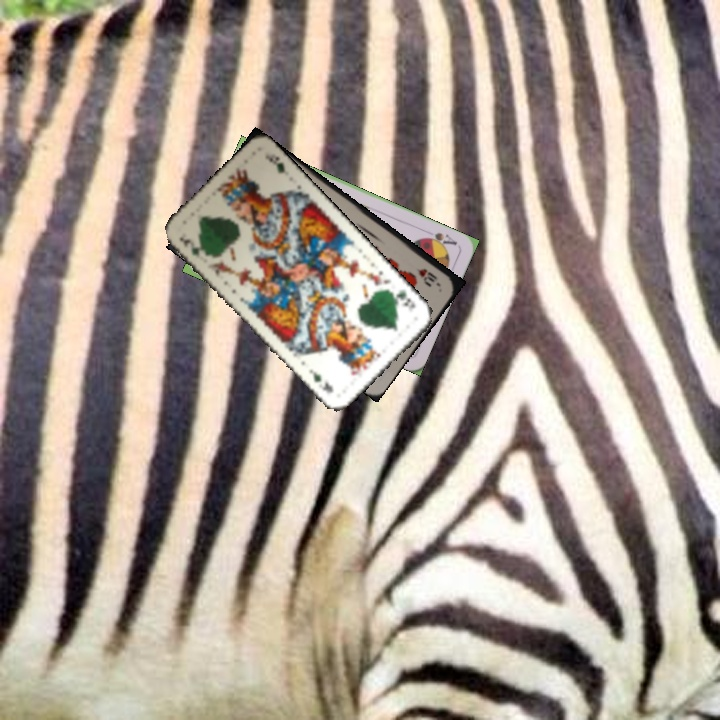GK: (386, 285, 418, 314), (175, 231, 208, 259)
H10: (412, 264, 440, 285)
SA: (419, 228, 459, 250)
